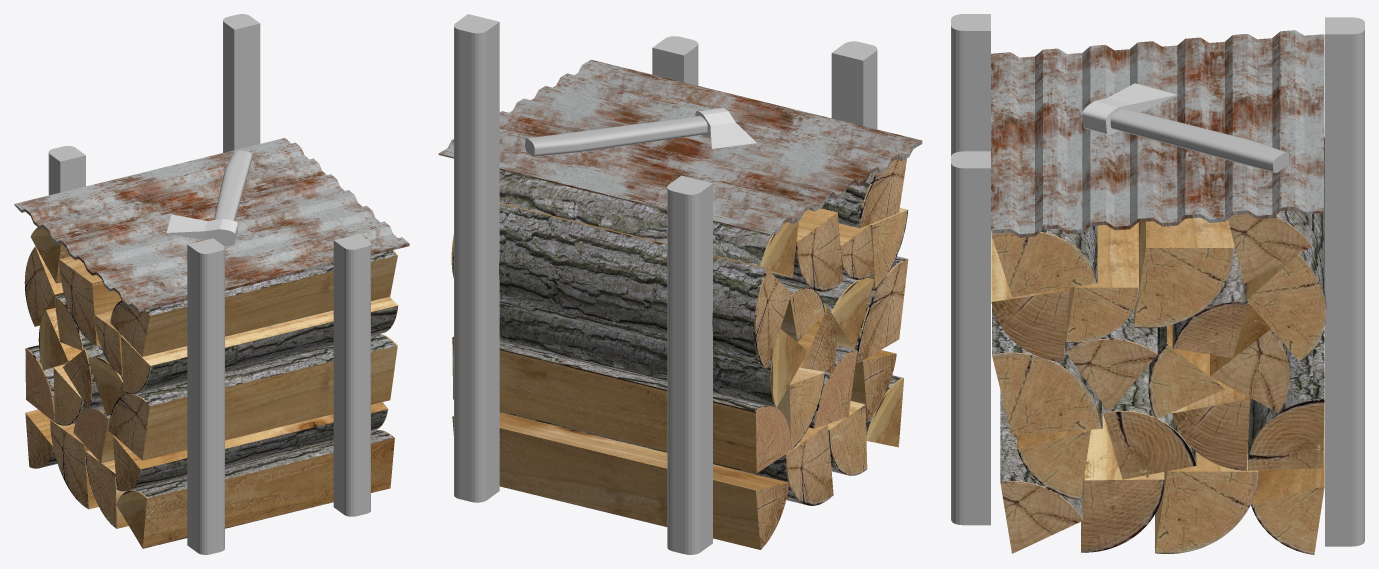
File: polennica_kolot2_LOD.fbx
3 renders of one model, left to right at view 1: azimuth 30°, elevation 25°; view 2: azimuth 150°, elevation 25°; view 3: azimuth 270°, elevation 25°, orthographic. The views are drawn at different scales.
Parts seen in each view (by area): view 1: Cube_LOD0; view 2: Cube_LOD0; view 3: Cube_LOD0.
Part boxes in pixels (<box>): Cube_LOD0: <box>14,14,409,554</box>; Cube_LOD0: <box>438,14,922,554</box>; Cube_LOD0: <box>951,14,1364,554</box>.
Size of what is drawn, in the model's own units: 188 by 255 by 186.
